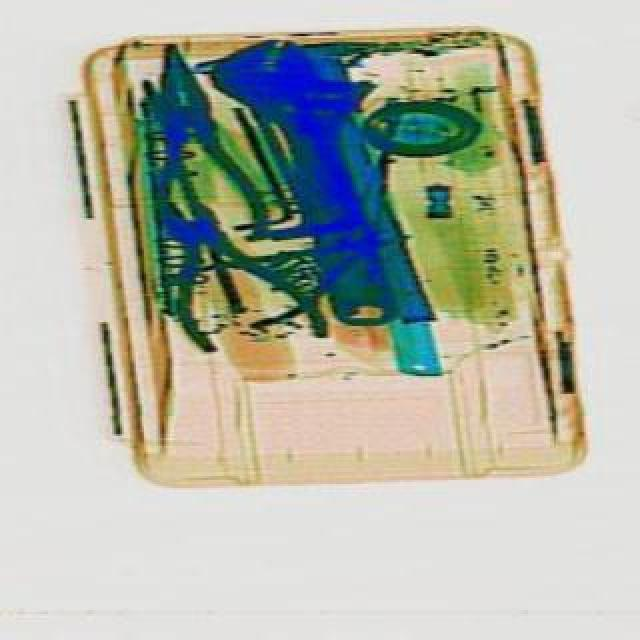scissors: (210, 20, 458, 350)
wrench: (132, 172, 340, 390), (122, 36, 274, 248)
